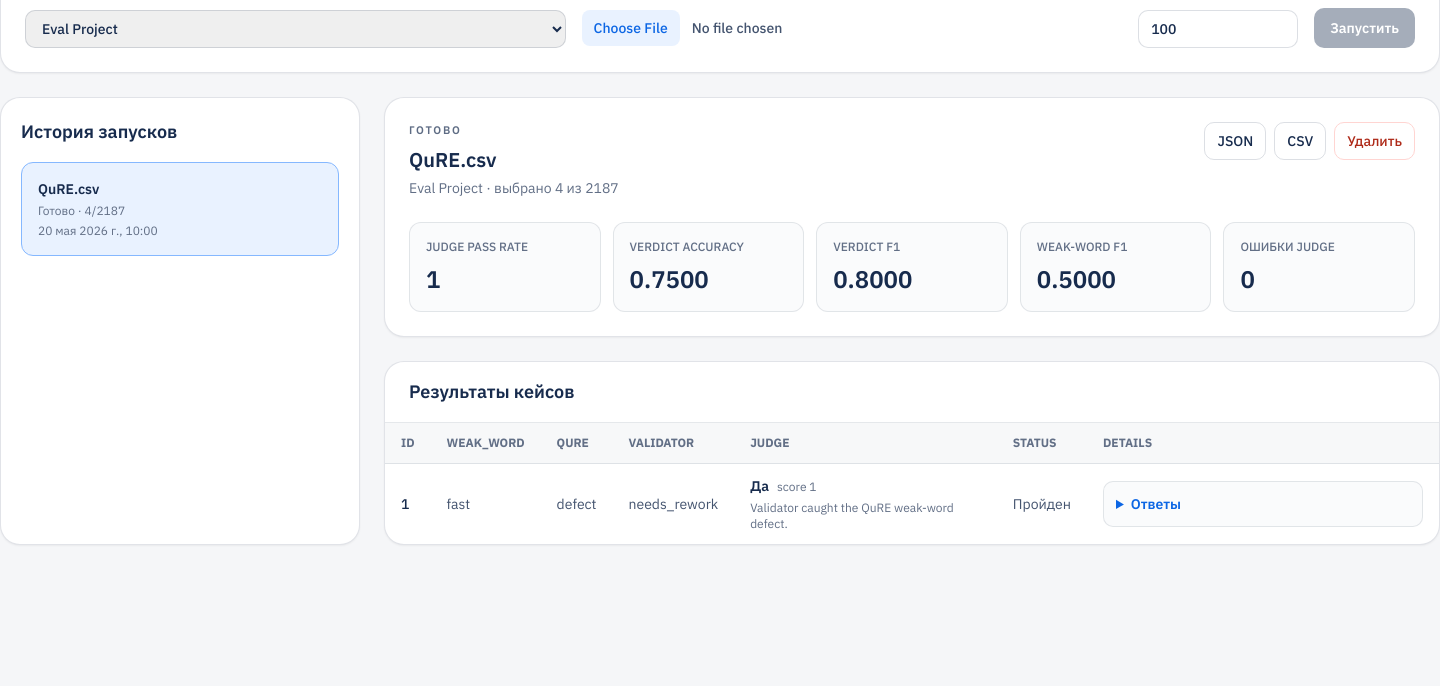
Test: QureEvalPage › shows validator and judge payload details for a case
Click the heading "Ответы". click: {"x": 1156, "y": 504}
box: [1131,495,1181,513]
(page scrolled)
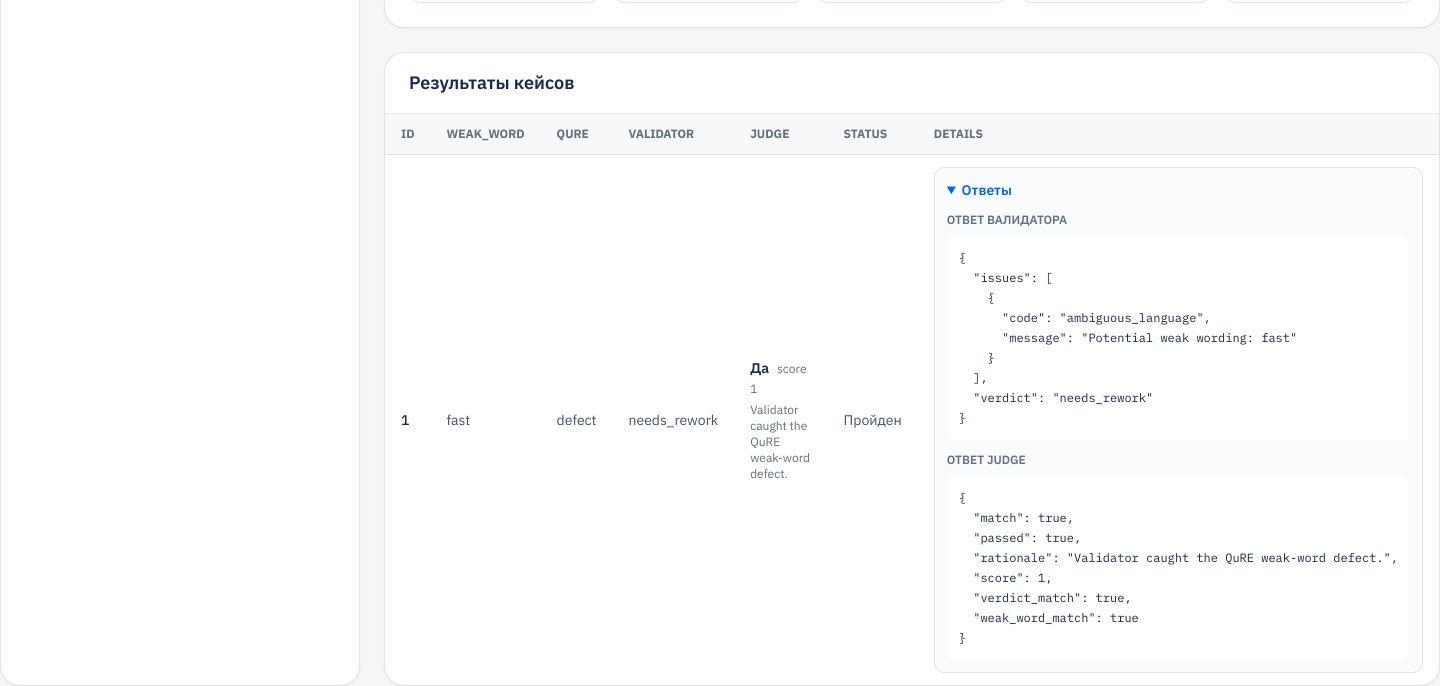
Check: the heading "Ответ валидатора" is shown, box [947,212,1067,227]
Check: the heading "Ответ judge" is shown, box [947,452,1026,467]
Check: the text "ambiguous_language" is shown, box [959,250,1297,425]
